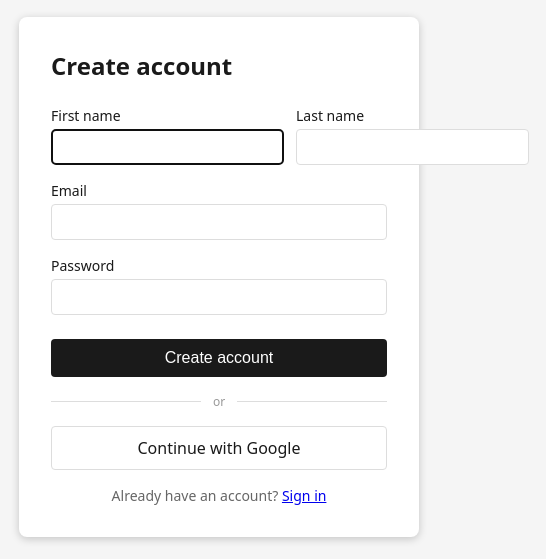
Test: RegisterPage › shows a resend affordance when the confirmation email failed to send
Step 1. Type "Alice" into the field labelled "First name" → (168, 147), box [51,129,284,165]
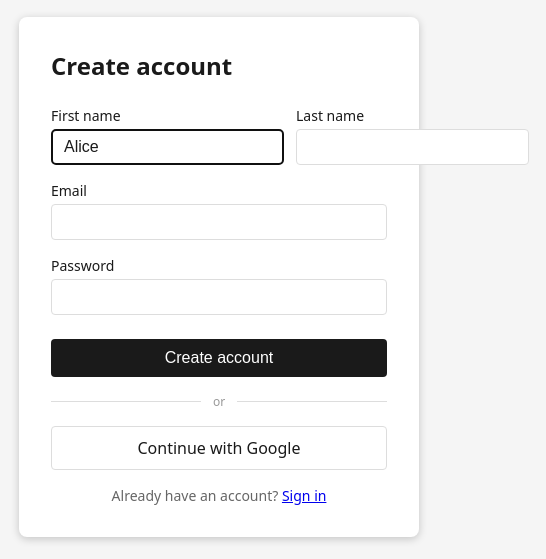
Step 2. Type "Smith" into the field labelled "Last name" → (412, 147), box [296,129,529,165]
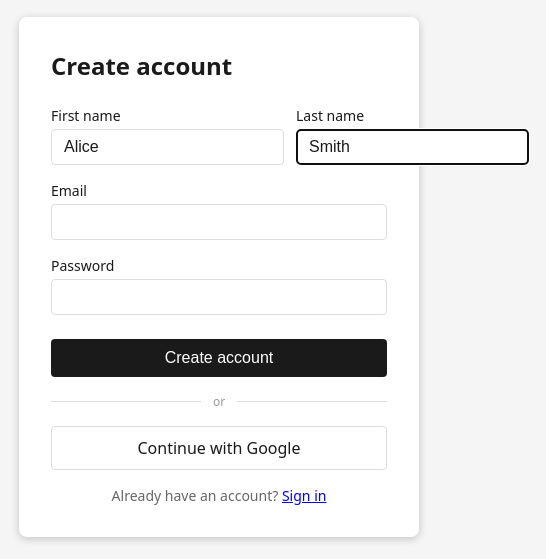
Step 3. Type "a@b.com" into the field labelled "Email" → (219, 222), box [51,204,387,240]
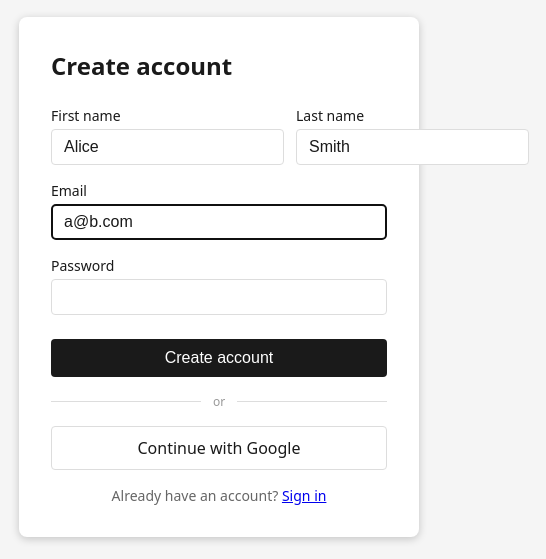
Step 4. Type "password1" into the password field labelled "Password" → (219, 297), box [51,279,387,315]
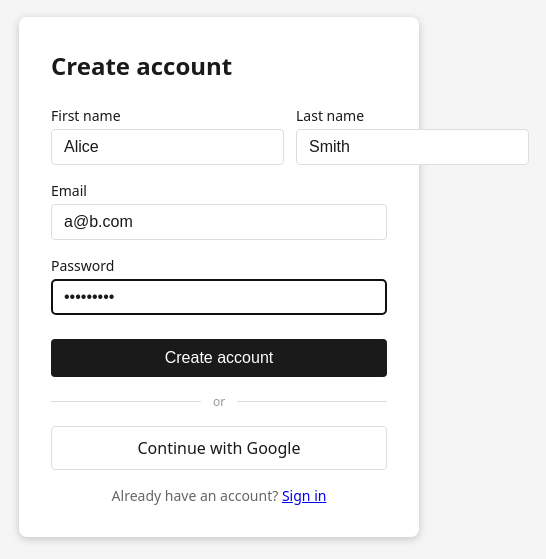
Step 5. Click the button "Create account" → (219, 358), box [51,339,387,377]
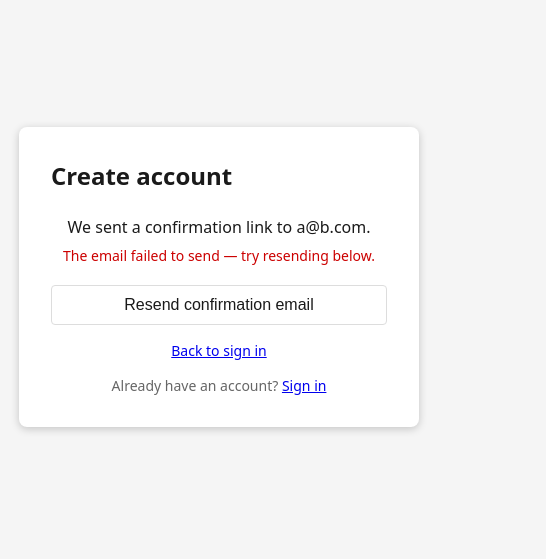
Check: the text "The email failed to send — try resending below." is shown, box [51,246,387,265]
Check: the button "Resend confirmation email" is shown, box [51,285,387,325]
